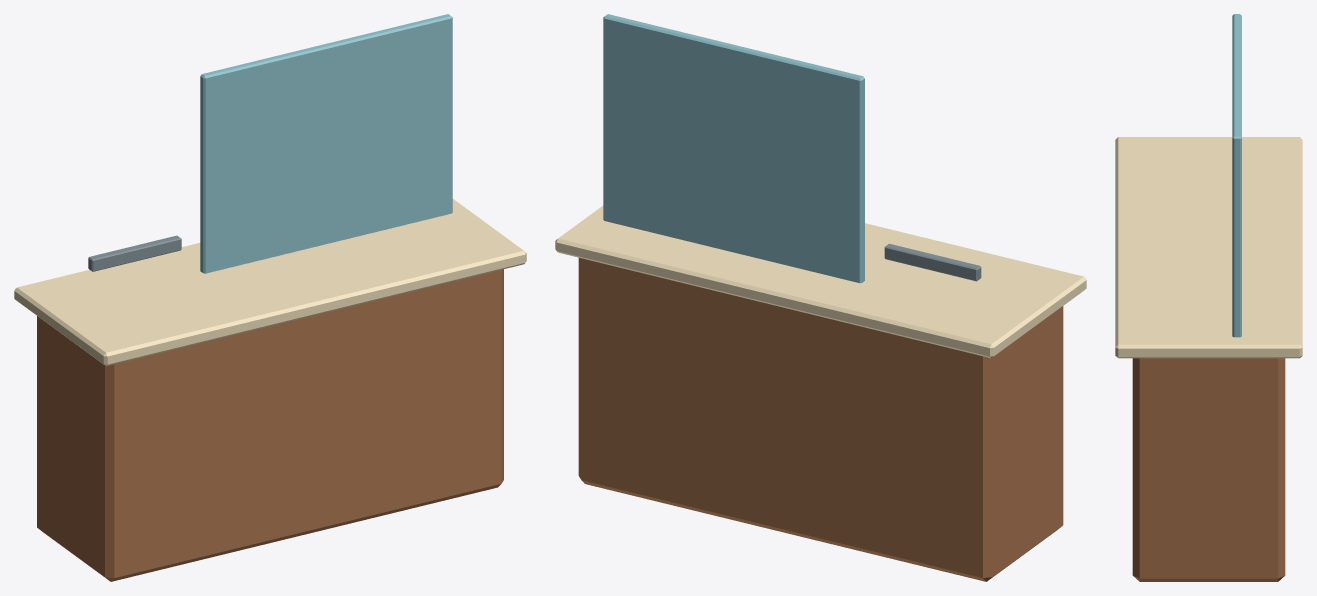
Rendered from Prop_BankCounter.fbx.
3 views of the same model, side by side, from view 1: azimuth 30°, elevation 25°; view 2: azimuth 150°, elevation 25°; view 3: azimuth 270°, elevation 25° (orthographic). The views are drawn at different scales.
Visible parts, largest first — view 1: Counter.001, GlassPanel, Worktop, PassThrough; view 2: Counter.001, GlassPanel, Worktop, PassThrough; view 3: Worktop, Counter.001, GlassPanel.
Boxes of the visible parts, <box> form: Counter.001: <box>37,269,503,581</box>; GlassPanel: <box>200,14,452,273</box>; Worktop: <box>14,199,526,366</box>; PassThrough: <box>88,235,181,271</box>; Counter.001: <box>578,258,1063,581</box>; GlassPanel: <box>603,14,864,283</box>; Worktop: <box>555,205,1086,358</box>; PassThrough: <box>884,243,981,281</box>; Worktop: <box>1115,137,1302,358</box>; Counter.001: <box>1132,358,1285,581</box>; GlassPanel: <box>1232,14,1241,337</box>.
Bounding box in the file's own units: 2.12 × 2.1 × 0.8.
